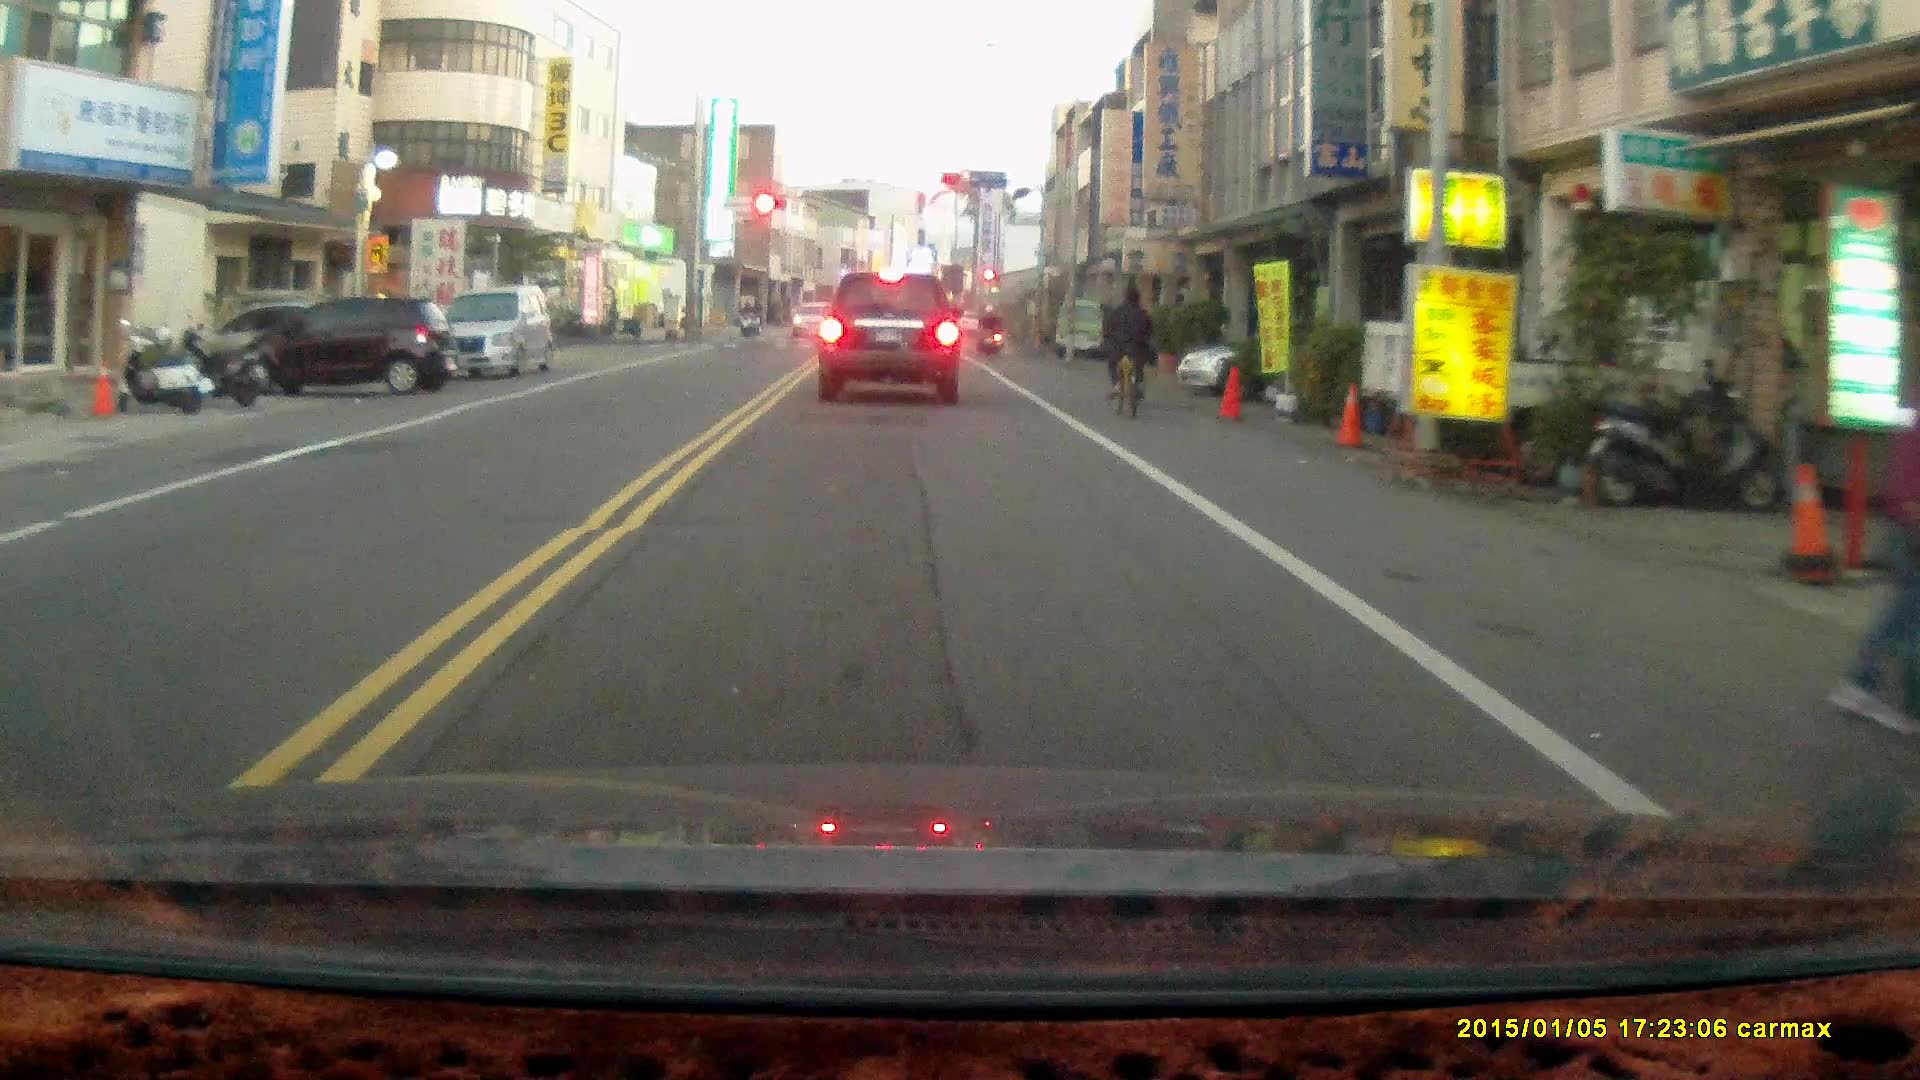pedestrian: (1821, 355, 1920, 741)
rider: (1100, 279, 1155, 418), (974, 299, 1001, 356), (736, 296, 758, 338)
vehicle: (240, 296, 457, 397), (817, 267, 966, 406), (1175, 319, 1423, 398), (419, 281, 556, 386)
